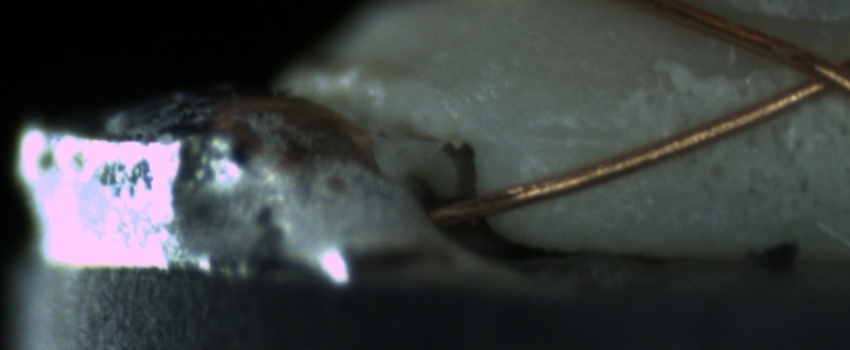CL: (772, 38, 848, 107)
DL: (512, 108, 633, 168)
